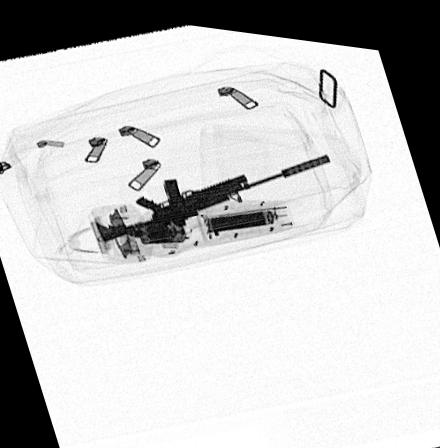Gun: (92, 141, 333, 238)
